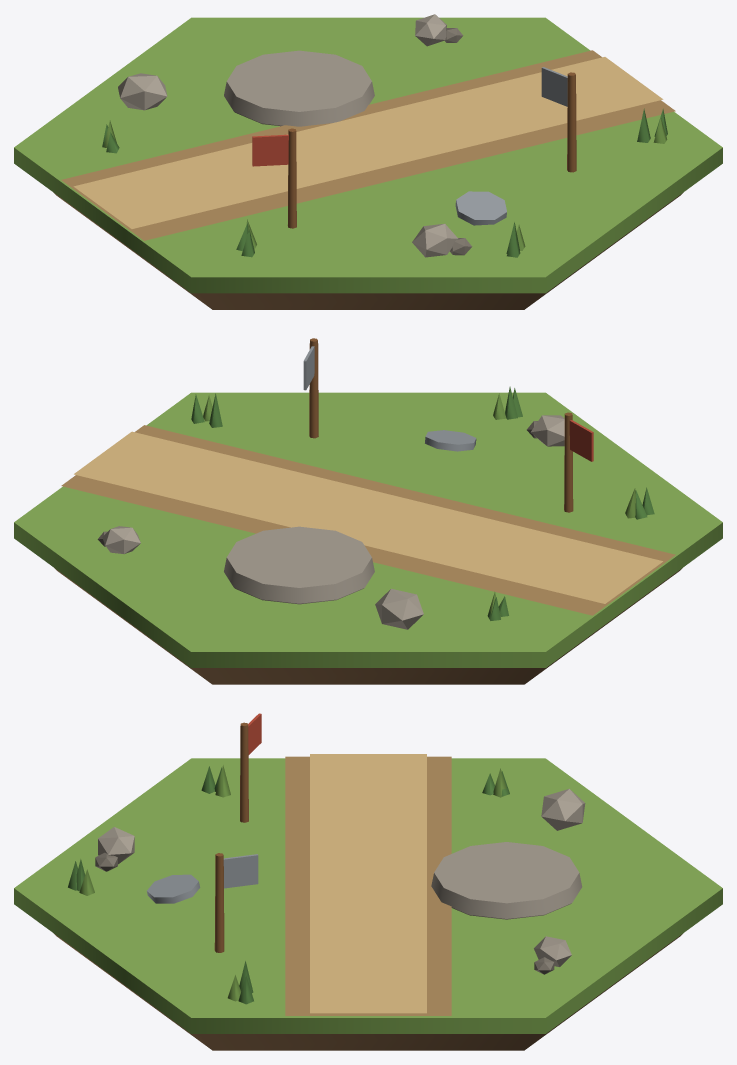
Rendered from tile_battlefield.glb.
3 renders of one model, top to bottom at view 1: azimuth 30°, elevation 25°; view 2: azimuth 150°, elevation 25°; view 3: azimuth 270°, elevation 25°, orthographic.
Visible parts, largest first — view 1: turf, road, tower_slot_1_plate, tile_base, rock (×3), banner_cloth (×2), banner_pole (×2), shield; view 2: turf, road, tower_slot_1_plate, tile_base, rock (×3), banner_pole (×2), shield, banner_cloth; view 3: turf, road, tower_slot_1_plate, tile_base, rock (×3), banner_pole (×2), shield, banner_cloth.
Boxes of the visible parts, x1,y1,x2,y2 form: turf: (14,17,722,293); road: (61,50,675,240); tower_slot_1_plate: (224,50,374,126); tile_base: (53,192,683,309); rock (×3): (118,14,458,257); banner_cloth (×2): (252,67,567,166); banner_pole (×2): (287,72,576,228); shield: (455,191,506,225); turf: (14,392,722,667); road: (61,425,675,615); tower_slot_1_plate: (224,526,374,603); tile_base: (54,568,682,684); rock (×3): (102,415,564,629); banner_pole (×2): (309,338,573,512); shield: (425,430,476,451); banner_cloth: (569,420,593,461); turf: (14,758,722,1033); road: (285,754,451,1015); tower_slot_1_plate: (431,842,582,918); tile_base: (54,934,682,1050); rock (×3): (98,788,585,966); banner_pole (×2): (214,722,248,952); shield: (147,874,200,903); banner_cloth: (223,854,258,888).
Size of the model in its own units: 1.73 by 0.45 by 2.
